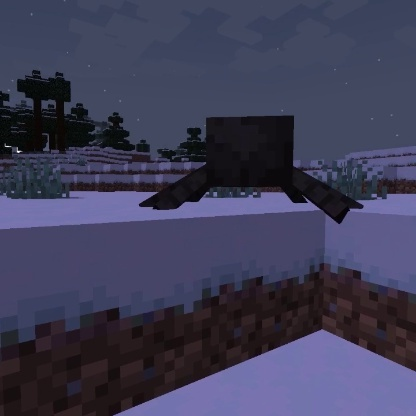spider: (135, 110, 367, 227)
